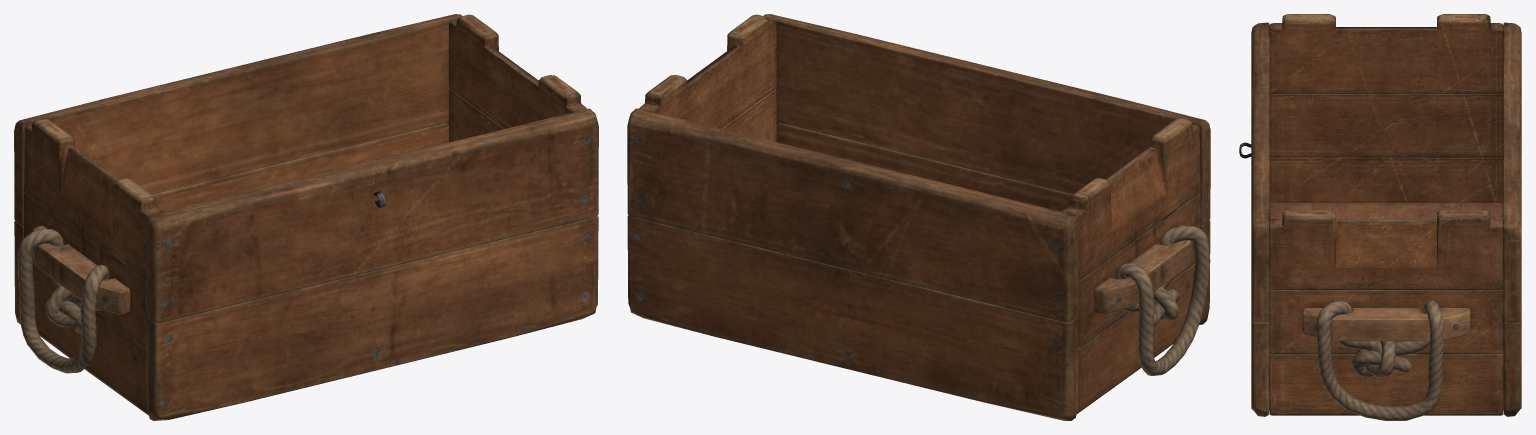
The model's file is p0-crate.glb.
The picture shows the model from 3 angles, left to right: view 1: azimuth 30°, elevation 25°; view 2: azimuth 150°, elevation 25°; view 3: azimuth 270°, elevation 25°; orthographic projection. The views are drawn at different scales.
Visible parts, largest first — view 1: P0Crate; view 2: P0Crate; view 3: P0Crate.
Part boxes in pixels (<box>): P0Crate: <box>14,14,598,420</box>; P0Crate: <box>627,14,1210,420</box>; P0Crate: <box>1239,14,1521,420</box>.
Size of what is drawn, in the model's own units: 0.8253 by 0.3219 by 0.4083.
Materials: 1 (1 with a texture image).
